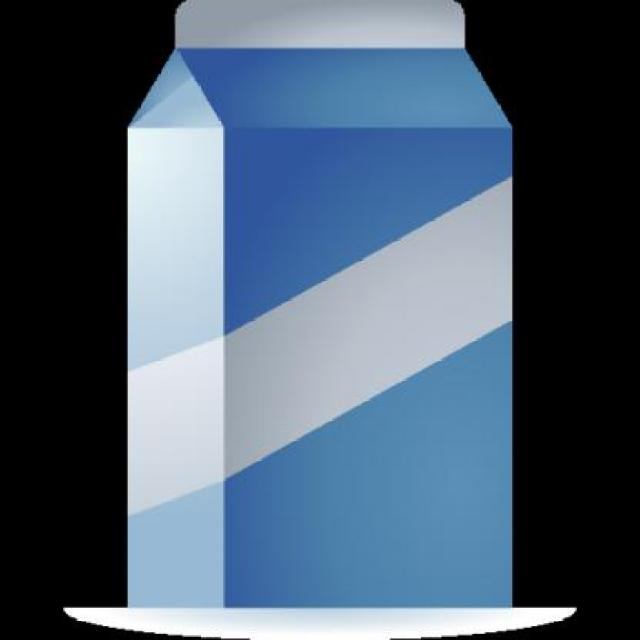non_white_jug: (104, 0, 547, 638)
